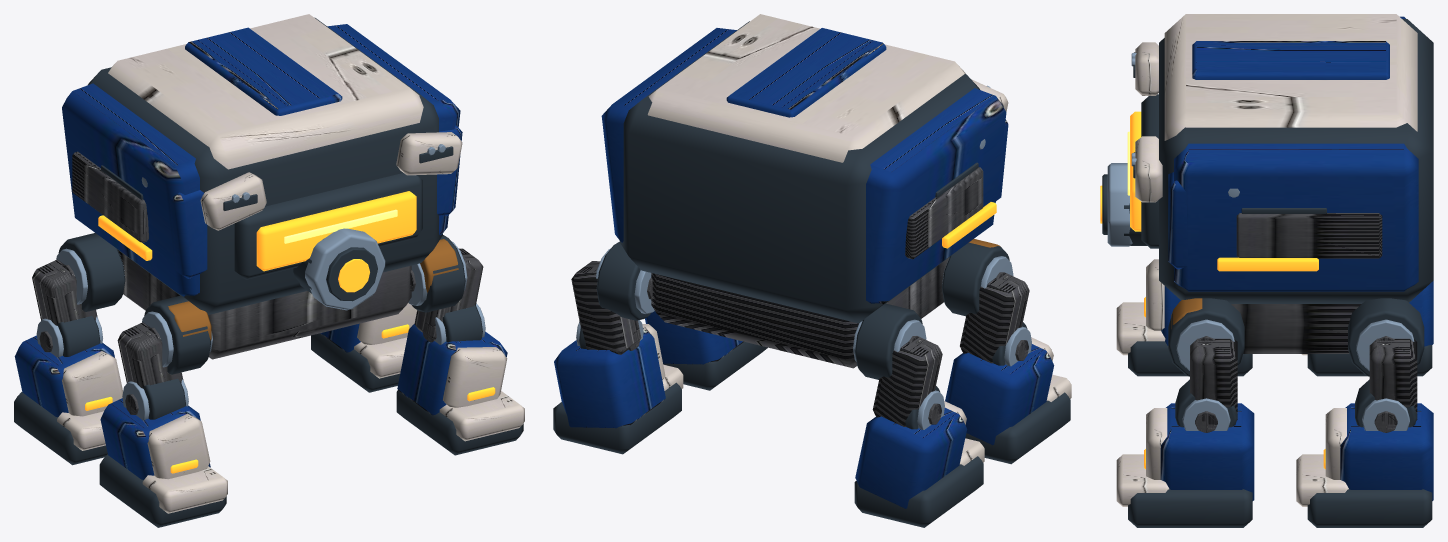
The model's file is quad_armored.glb.
3 renders of one model, left to right at view 1: azimuth 30°, elevation 25°; view 2: azimuth 150°, elevation 25°; view 3: azimuth 270°, elevation 25°, orthographic. The views are drawn at different scales.
Parts seen in each view (by area): view 1: Graphite, Ceramic, Cobalt, Brushed steel, Amber optic, Ceramic.004, Machined edges, Ceramic.002, Graphite.002, Ceramic.001, Graphite.001, Cobalt.004 (+13 smaller); view 2: Graphite, Cobalt, Ceramic, Brushed steel, Cobalt.003, Cobalt.001, Cobalt.002, Brushed steel.001, Brushed steel.002, Graphite.001, Graphite.003, Brushed steel.003 (+8 smaller); view 3: Cobalt, Ceramic, Graphite, Brushed steel, Cobalt.004, Cobalt.003, Graphite.003, Graphite.004, Machined edges, Brushed steel.003, Brushed steel.004, Ceramic.003 (+10 smaller).
Part boxes in pixels (x1=…): Graphite: x1=58, y1=17, x2=465, y2=374; Ceramic: x1=108, y1=14, x2=462, y2=230; Cobalt: x1=62, y1=24, x2=462, y2=296; Brushed steel: x1=62, y1=151, x2=415, y2=359; Amber optic: x1=98, y1=191, x2=416, y2=292; Ceramic.004: x1=439, y1=347, x2=524, y2=441; Machined edges: x1=56, y1=144, x2=467, y2=367; Ceramic.002: x1=142, y1=413, x2=227, y2=513; Graphite.002: x1=99, y1=378, x2=226, y2=527; Ceramic.001: x1=57, y1=351, x2=122, y2=450; Graphite.001: x1=14, y1=316, x2=107, y2=465; Cobalt.004: x1=397, y1=324, x2=507, y2=415; Graphite: x1=596, y1=21, x2=1009, y2=379; Cobalt: x1=601, y1=28, x2=1008, y2=304; Ceramic: x1=647, y1=14, x2=1008, y2=162; Brushed steel: x1=647, y1=167, x2=1005, y2=368; Cobalt.003: x1=554, y1=328, x2=665, y2=428; Cobalt.001: x1=855, y1=407, x2=967, y2=508; Cobalt.002: x1=945, y1=344, x2=1054, y2=445; Brushed steel.001: x1=872, y1=336, x2=942, y2=426; Brushed steel.002: x1=960, y1=272, x2=1029, y2=363; Graphite.001: x1=854, y1=386, x2=983, y2=527; Graphite.003: x1=553, y1=328, x2=681, y2=454; Brushed steel.003: x1=571, y1=261, x2=641, y2=354; Cobalt: x1=1168, y1=16, x2=1418, y2=291; Ceramic: x1=1135, y1=14, x2=1417, y2=202; Graphite: x1=1102, y1=19, x2=1433, y2=376; Brushed steel: x1=1195, y1=213, x2=1394, y2=353; Cobalt.004: x1=1160, y1=403, x2=1254, y2=500; Cobalt.003: x1=1340, y1=403, x2=1433, y2=500; Graphite.003: x1=1307, y1=379, x2=1432, y2=527; Graphite.004: x1=1128, y1=379, x2=1252, y2=527; Machined edges: x1=1107, y1=53, x2=1414, y2=370; Brushed steel.003: x1=1369, y1=338, x2=1417, y2=432; Brushed steel.004: x1=1190, y1=338, x2=1237, y2=432; Ceramic.003: x1=1296, y1=408, x2=1348, y2=506.
Size of the model in its own units: 1.23 by 1.14 by 0.91.
Materials: 8 (3 with a texture image).
